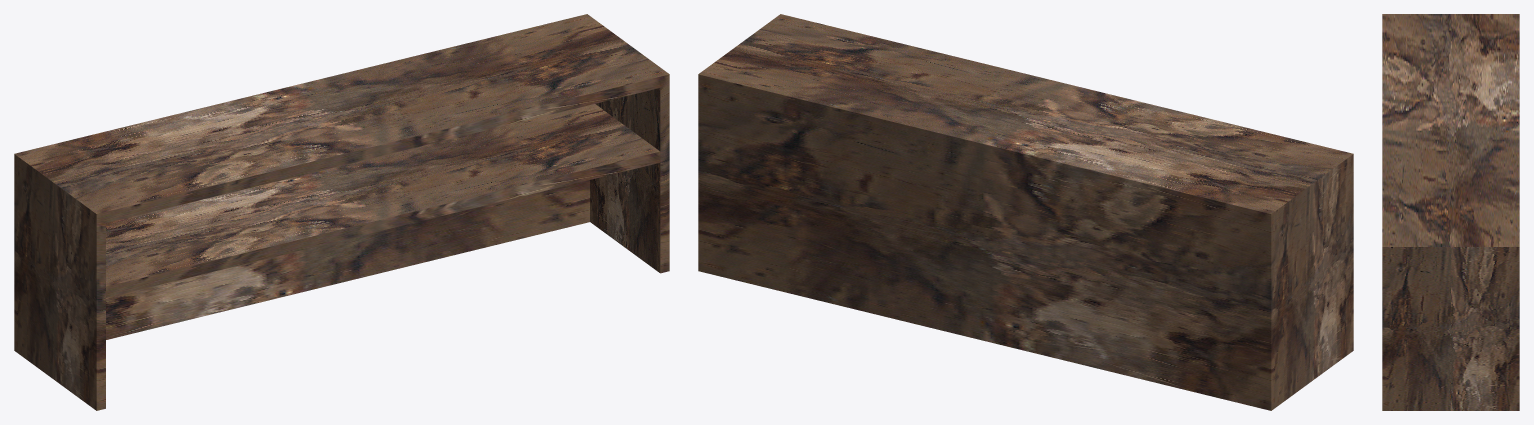
File: Shelves.FBX
3 renders of one model, left to right at view 1: azimuth 30°, elevation 25°; view 2: azimuth 150°, elevation 25°; view 3: azimuth 270°, elevation 25°, orthographic. The views are drawn at different scales.
Parts seen in each view (by area): view 1: Shelves; view 2: Shelves; view 3: Shelves.
Part boxes in pixels (x1,y1,x2,y2): Shelves: (14,14,669,410); Shelves: (698,14,1353,410); Shelves: (1382,14,1519,410).
Size of the model in its own units: 2.65 by 0.87 by 0.6609.
